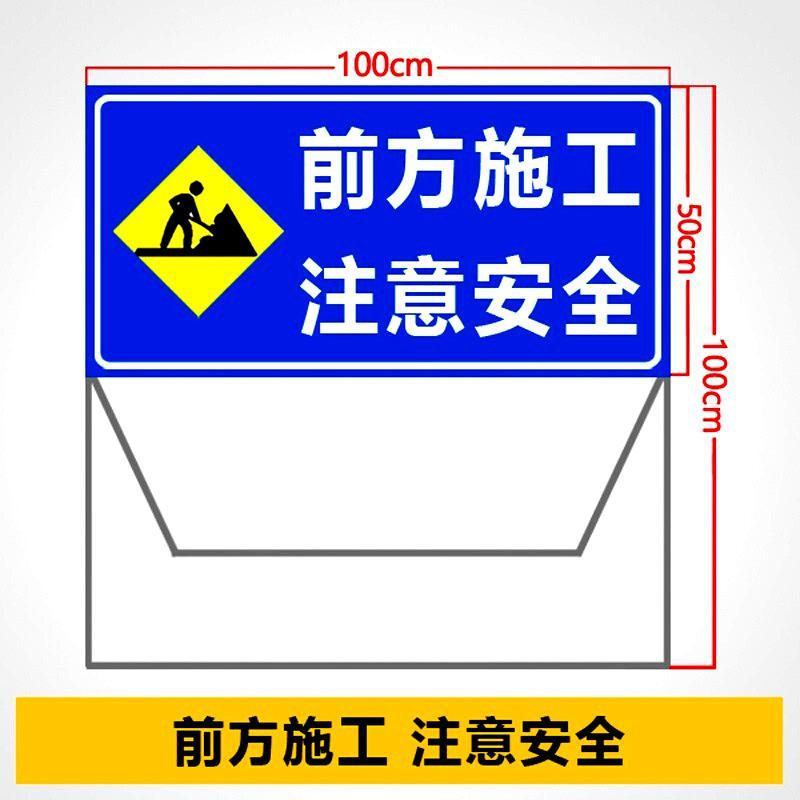sign: (92, 92, 667, 372)
